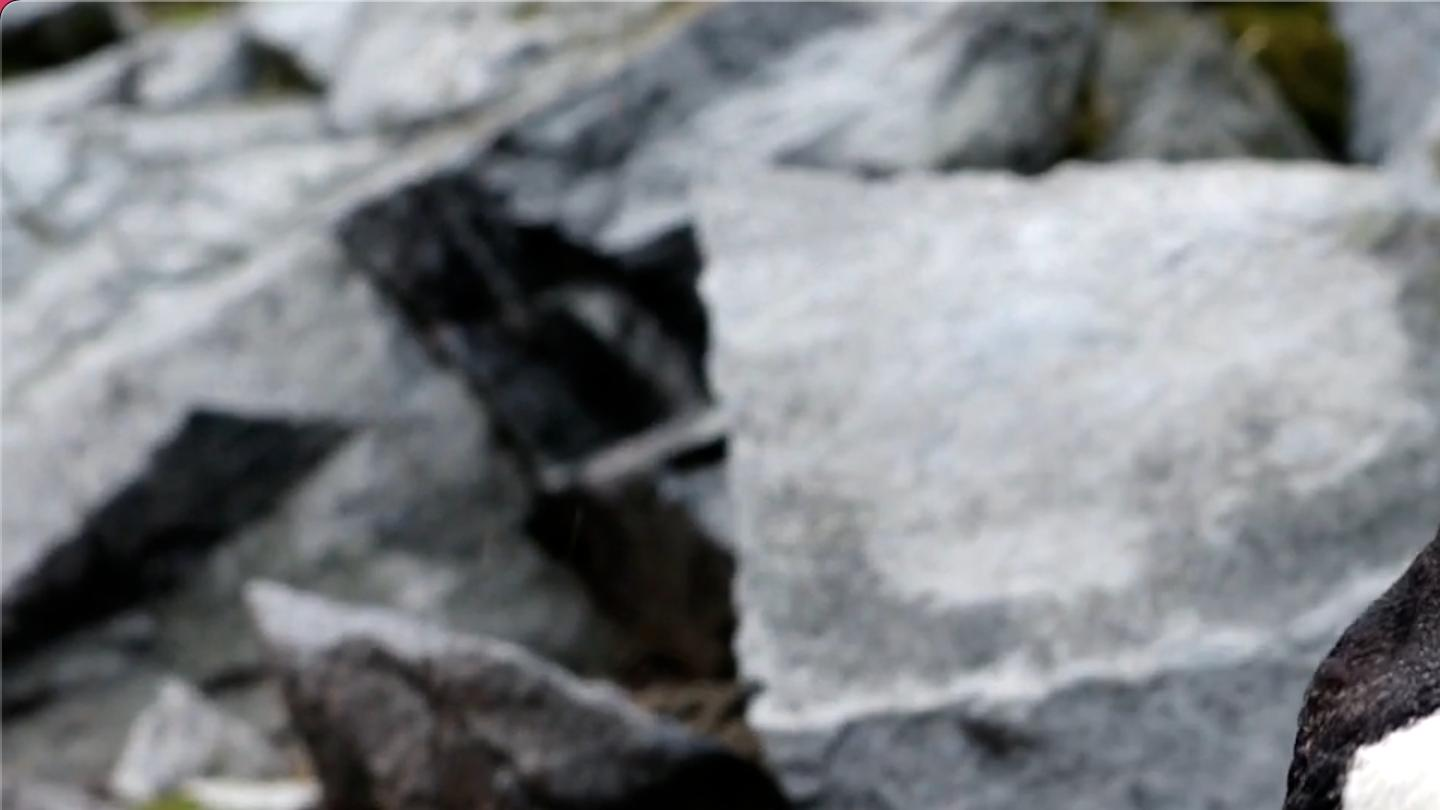Chinstrap Penguin: (706, 345, 1440, 810)
